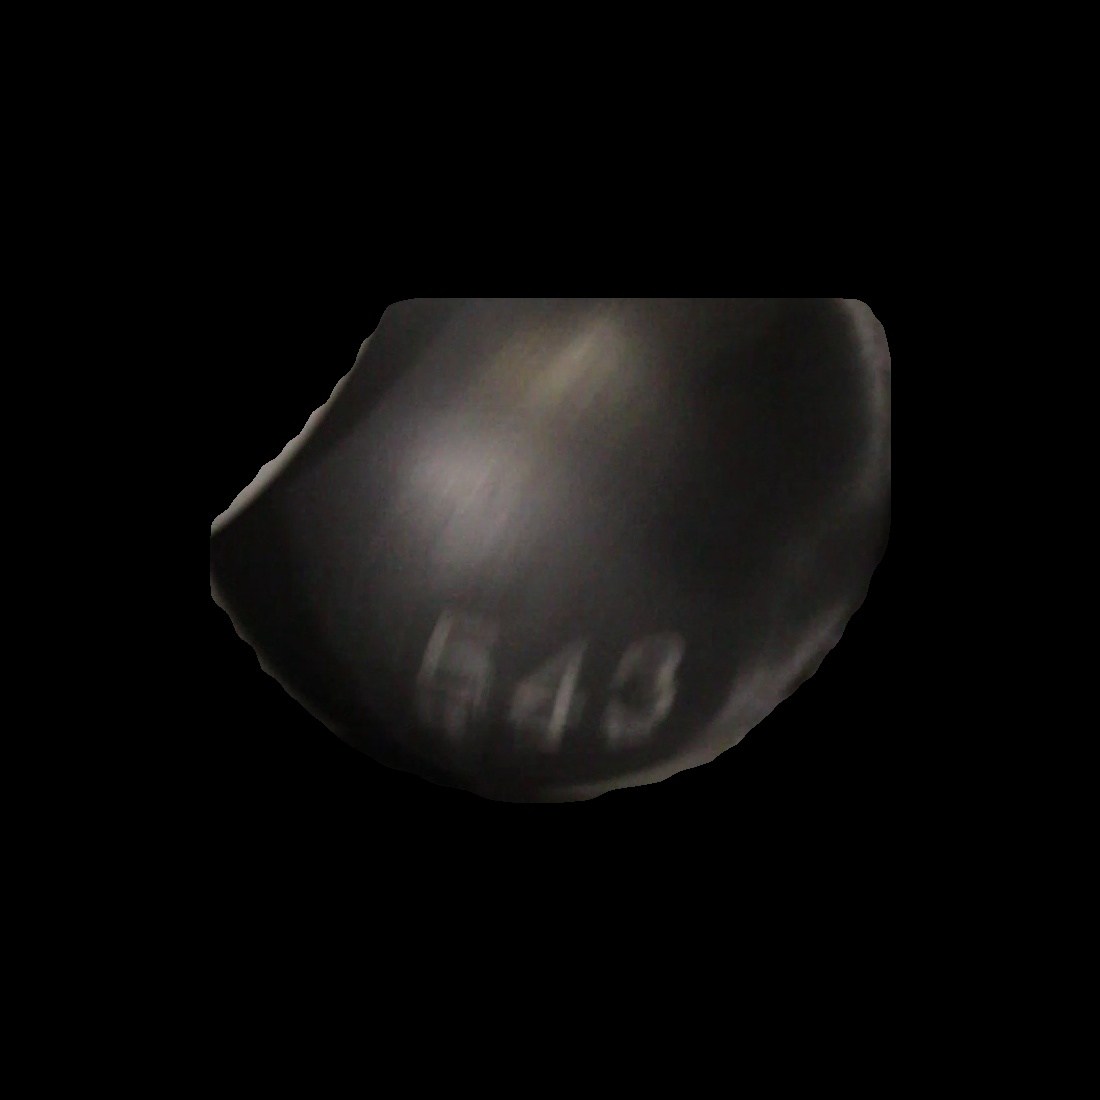digits: (395, 599, 697, 757)
